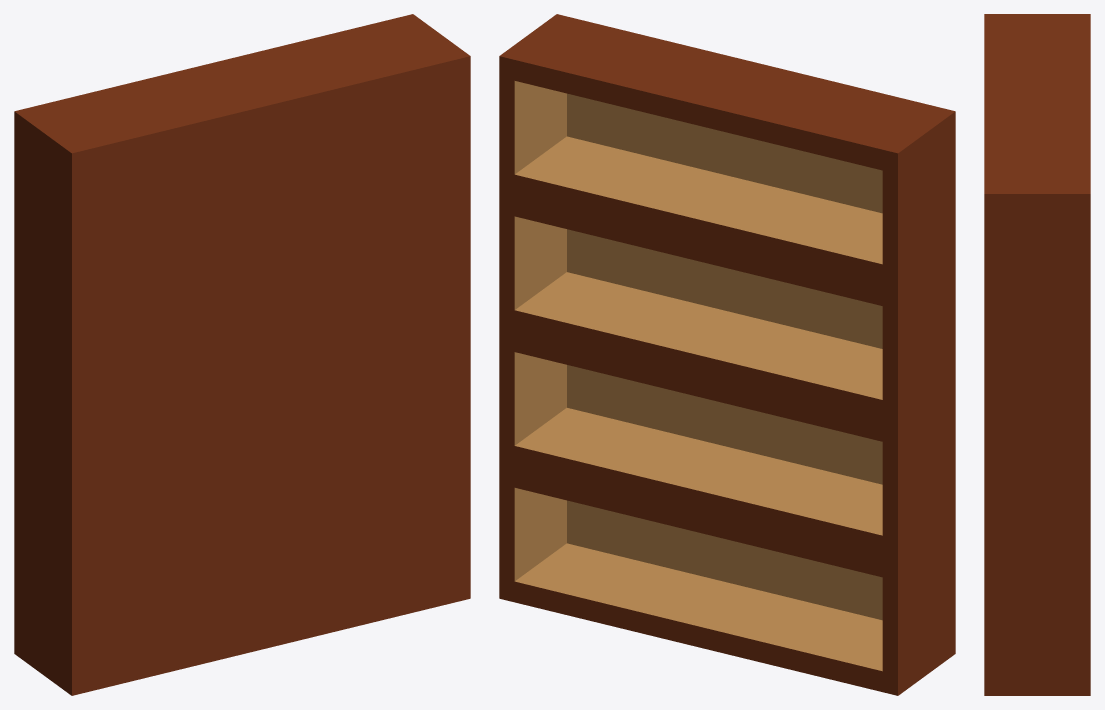
File: Shelf.fbx
The picture shows the model from 3 angles, left to right: view 1: azimuth 30°, elevation 25°; view 2: azimuth 150°, elevation 25°; view 3: azimuth 270°, elevation 25°; orthographic projection. The views are drawn at different scales.
Parts seen in each view (by area): view 1: Cube.001; view 2: Cube.001; view 3: Cube.001.
Part boxes in pixels (left/top/right/bottom): Cube.001: left=14, top=14, right=470, bottom=695; Cube.001: left=499, top=14, right=955, bottom=695; Cube.001: left=984, top=14, right=1090, bottom=695.
Bounding box in the file's own units: 1 × 0.25 × 1.3.
